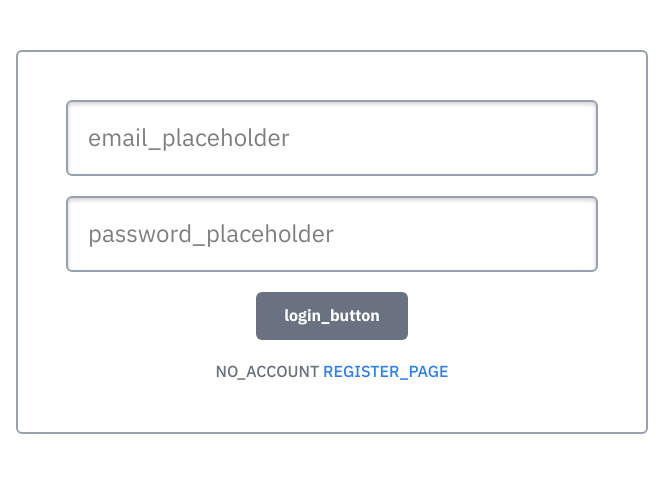
Login Page › shows error on invalid credentials
This screenshot has width=665, height=485.
Type "wrong@test.com" into the field with placeholder "email_placeholder".
click(332, 138); type("wrong@test.com")  # box [66,100,598,176]
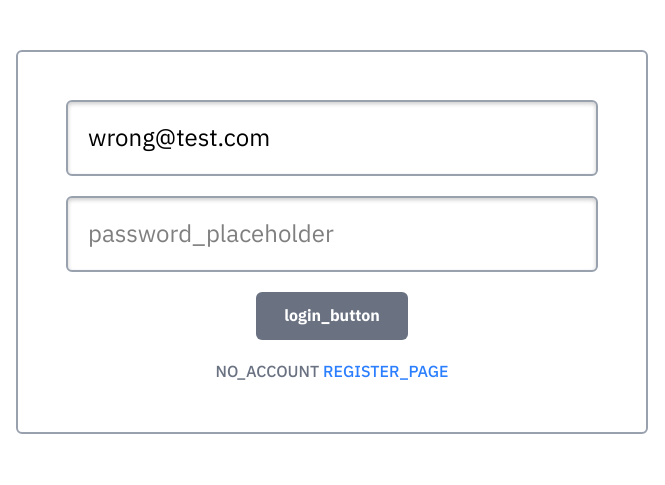
Type "wrongpass" into the password field with placeholder "password_placeholder".
click(332, 234); type("wrongpass")  # box [66,196,598,272]
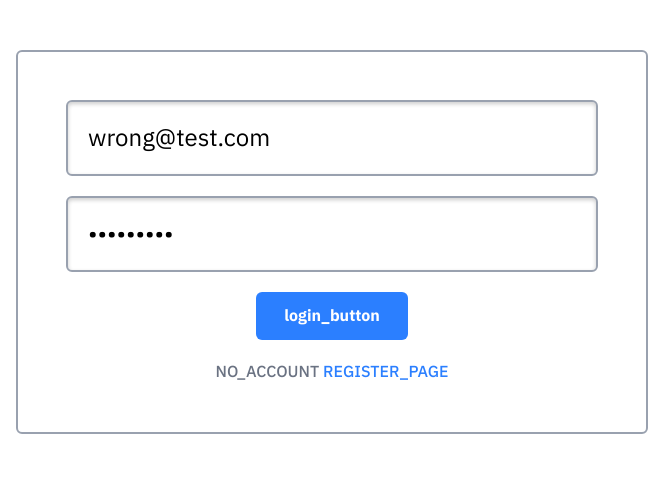
Click the button showing "login_button".
click(332, 316)  # box [256,292,408,340]
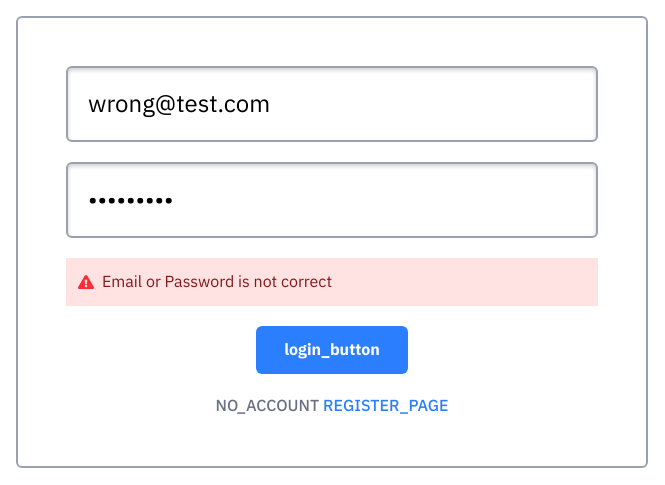
Check: the text "Email or Password is not correct" is shown, box [102,270,332,294]
